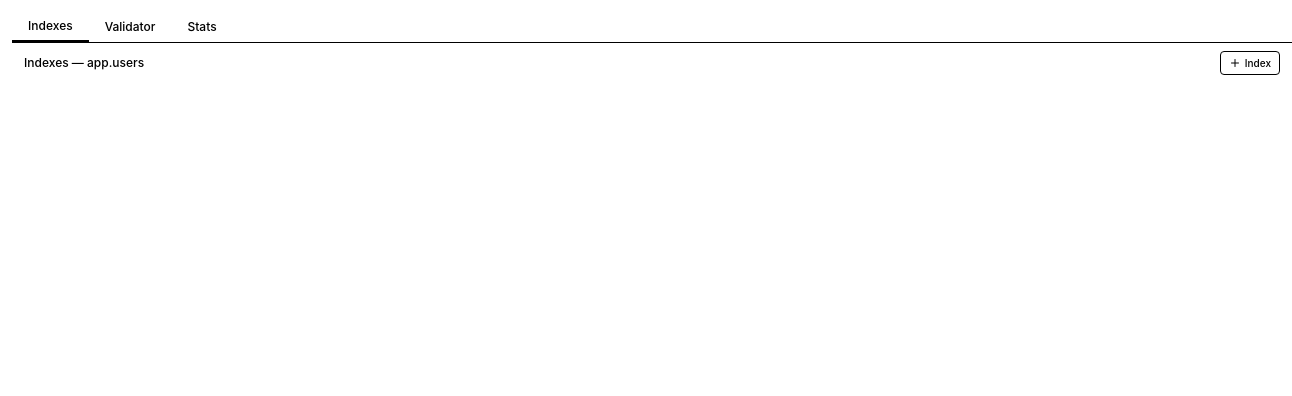
Scenario: MongoStructurePanel (Sprint 350 — tracer Indexes/Validator shell) › switches to the Validator sub-sub-tab on click and mounts ValidatorPanel verbatim
Click the tab "Validator": (130, 27) [89,13,171,41]
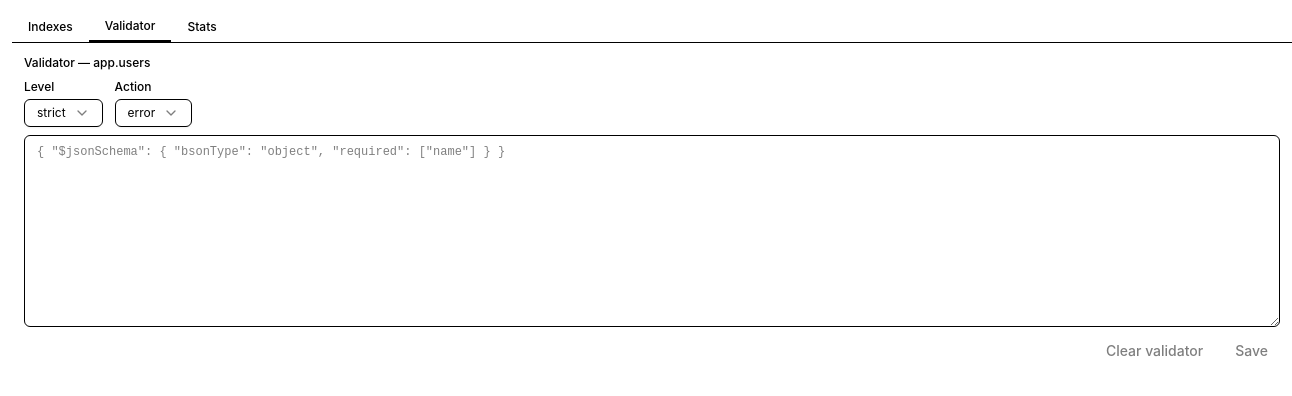
Expected: the element with test id "validator-panel" is shown
Expected: the element with test id "mongo-indexes-panel" is gone
